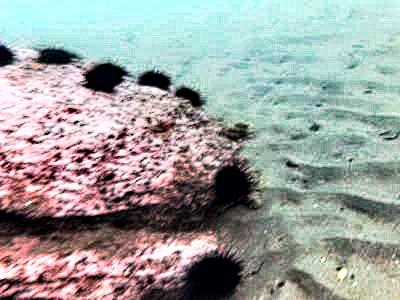urchin: (180, 246, 243, 292), (211, 158, 248, 211), (86, 62, 125, 89), (137, 67, 167, 91), (38, 48, 75, 63), (176, 87, 200, 105), (1, 42, 16, 65)
